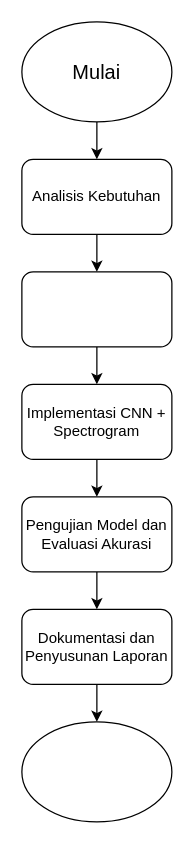
This 194x844 diagram has some shape labels left out. The centre of each missing label's shape, as x and y in pixels:
"Perancangan Sistem" belongs at [96,309].
"Selesai" belongs at [96,771].
